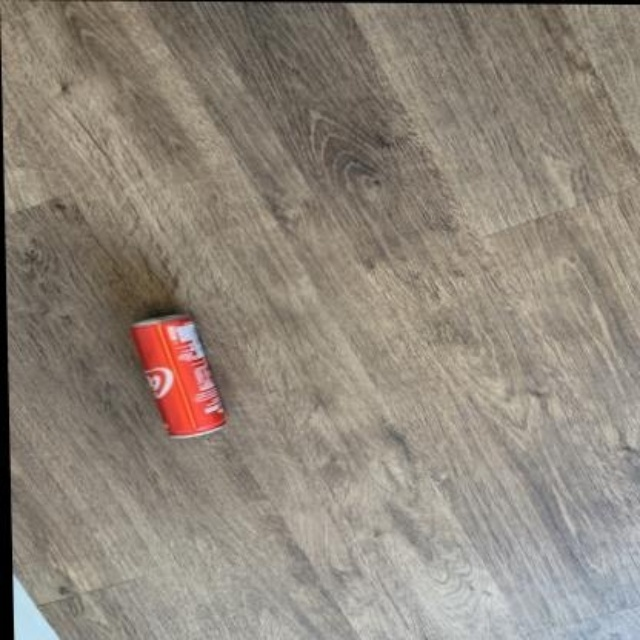trash: (131, 314, 223, 437)
